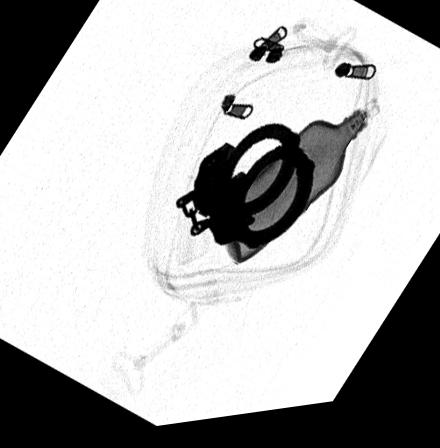HandCuffs: (174, 130, 315, 255)
